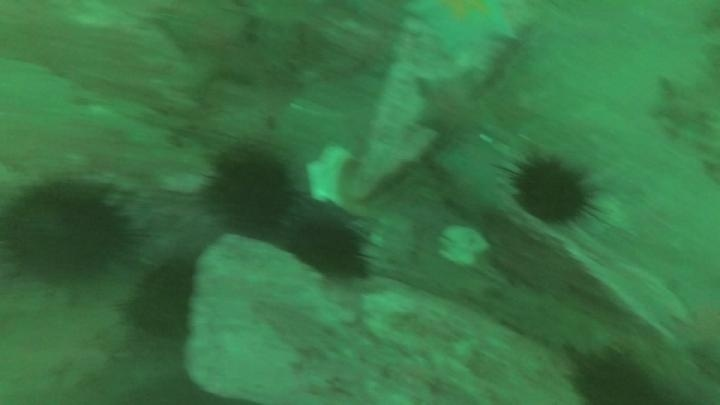echinus: (2, 178, 134, 286), (206, 147, 296, 237), (508, 152, 599, 228), (124, 259, 198, 340), (287, 213, 370, 280), (567, 347, 659, 404)
holothurian: (449, 271, 616, 356)
starfish: (154, 2, 261, 99), (406, 1, 519, 57), (433, 141, 507, 219), (411, 69, 484, 143), (663, 283, 720, 369), (648, 73, 711, 139)
